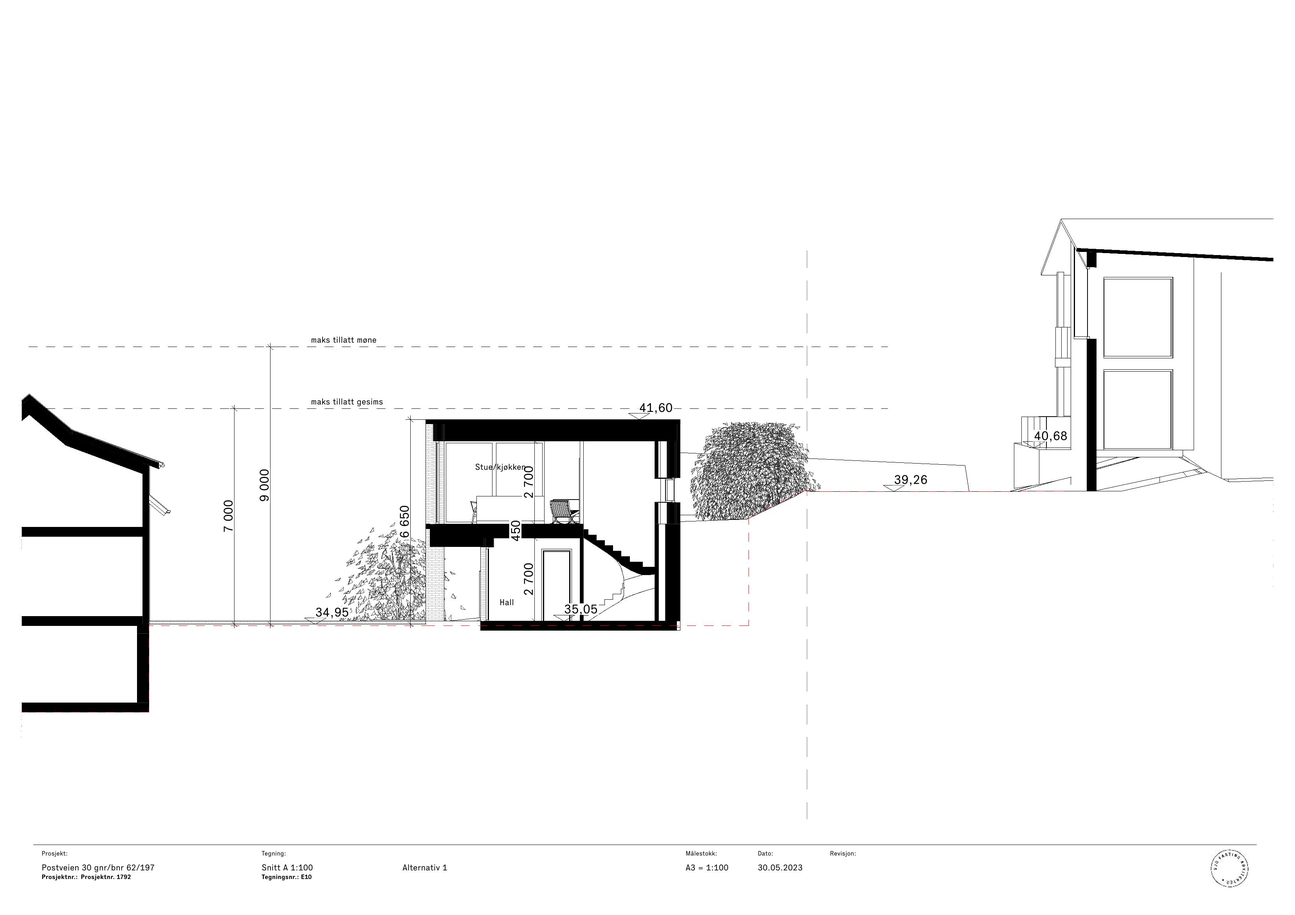snitt: (397, 410, 705, 640)
